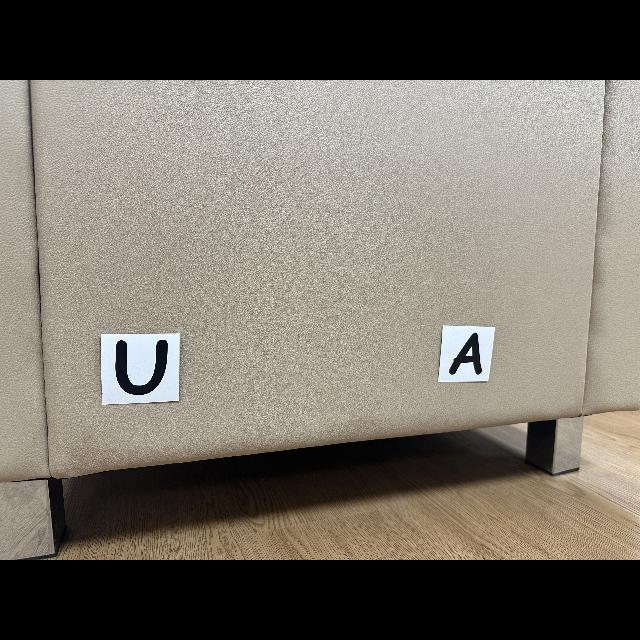A: (449, 332, 482, 375)
U: (115, 340, 168, 395)
